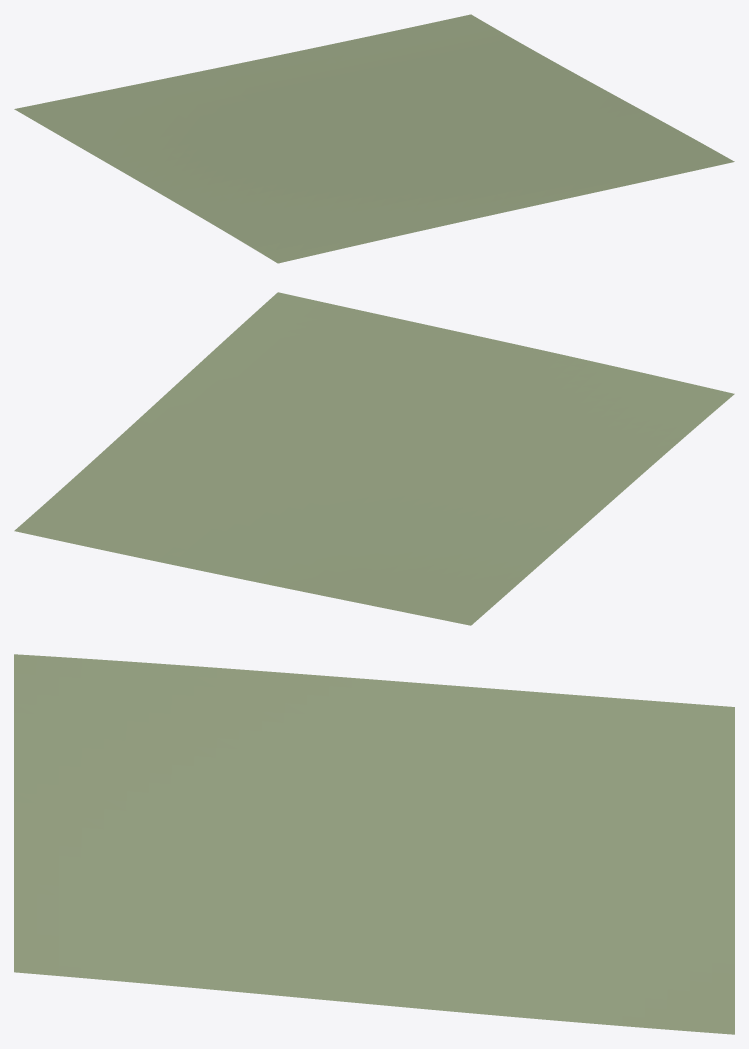
File: desert-4-26.glb
3 views of the same model, one above another, from view 1: azimuth 30°, elevation 25°; view 2: azimuth 150°, elevation 25°; view 3: azimuth 270°, elevation 25° (orthographic). The views are drawn at different scales.
Visible parts, largest first — view 1: desert-4-26; view 2: desert-4-26; view 3: desert-4-26.
Part boxes in pixels (x1=…): desert-4-26: x1=14, y1=14, x2=734, y2=263; desert-4-26: x1=14, y1=292, x2=734, y2=625; desert-4-26: x1=14, y1=654, x2=734, y2=1034.
Bounding box in the file's own units: 512 × 59.38 × 512.
